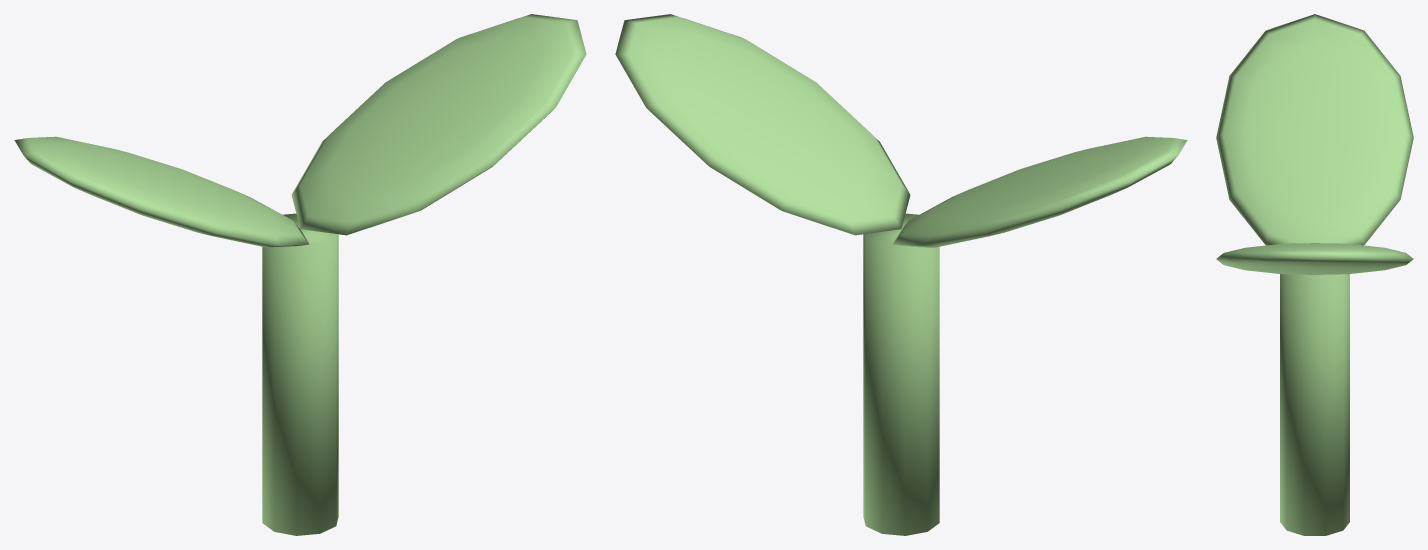
Rendered from VCrop_Tomato_2.fbx.
3 renders of one model, left to right at view 1: azimuth 30°, elevation 25°; view 2: azimuth 150°, elevation 25°; view 3: azimuth 270°, elevation 25°, orthographic. The views are drawn at different scales.
Parts seen in each view (by area): view 1: VCrop_Tomato_2; view 2: VCrop_Tomato_2; view 3: VCrop_Tomato_2.
Part boxes in pixels (x1,y1,x2,y2): VCrop_Tomato_2: (14, 14, 586, 535); VCrop_Tomato_2: (615, 14, 1187, 535); VCrop_Tomato_2: (1216, 14, 1413, 535).
Bounding box in the file's own units: 0.1798 × 0.1339 × 0.062.
